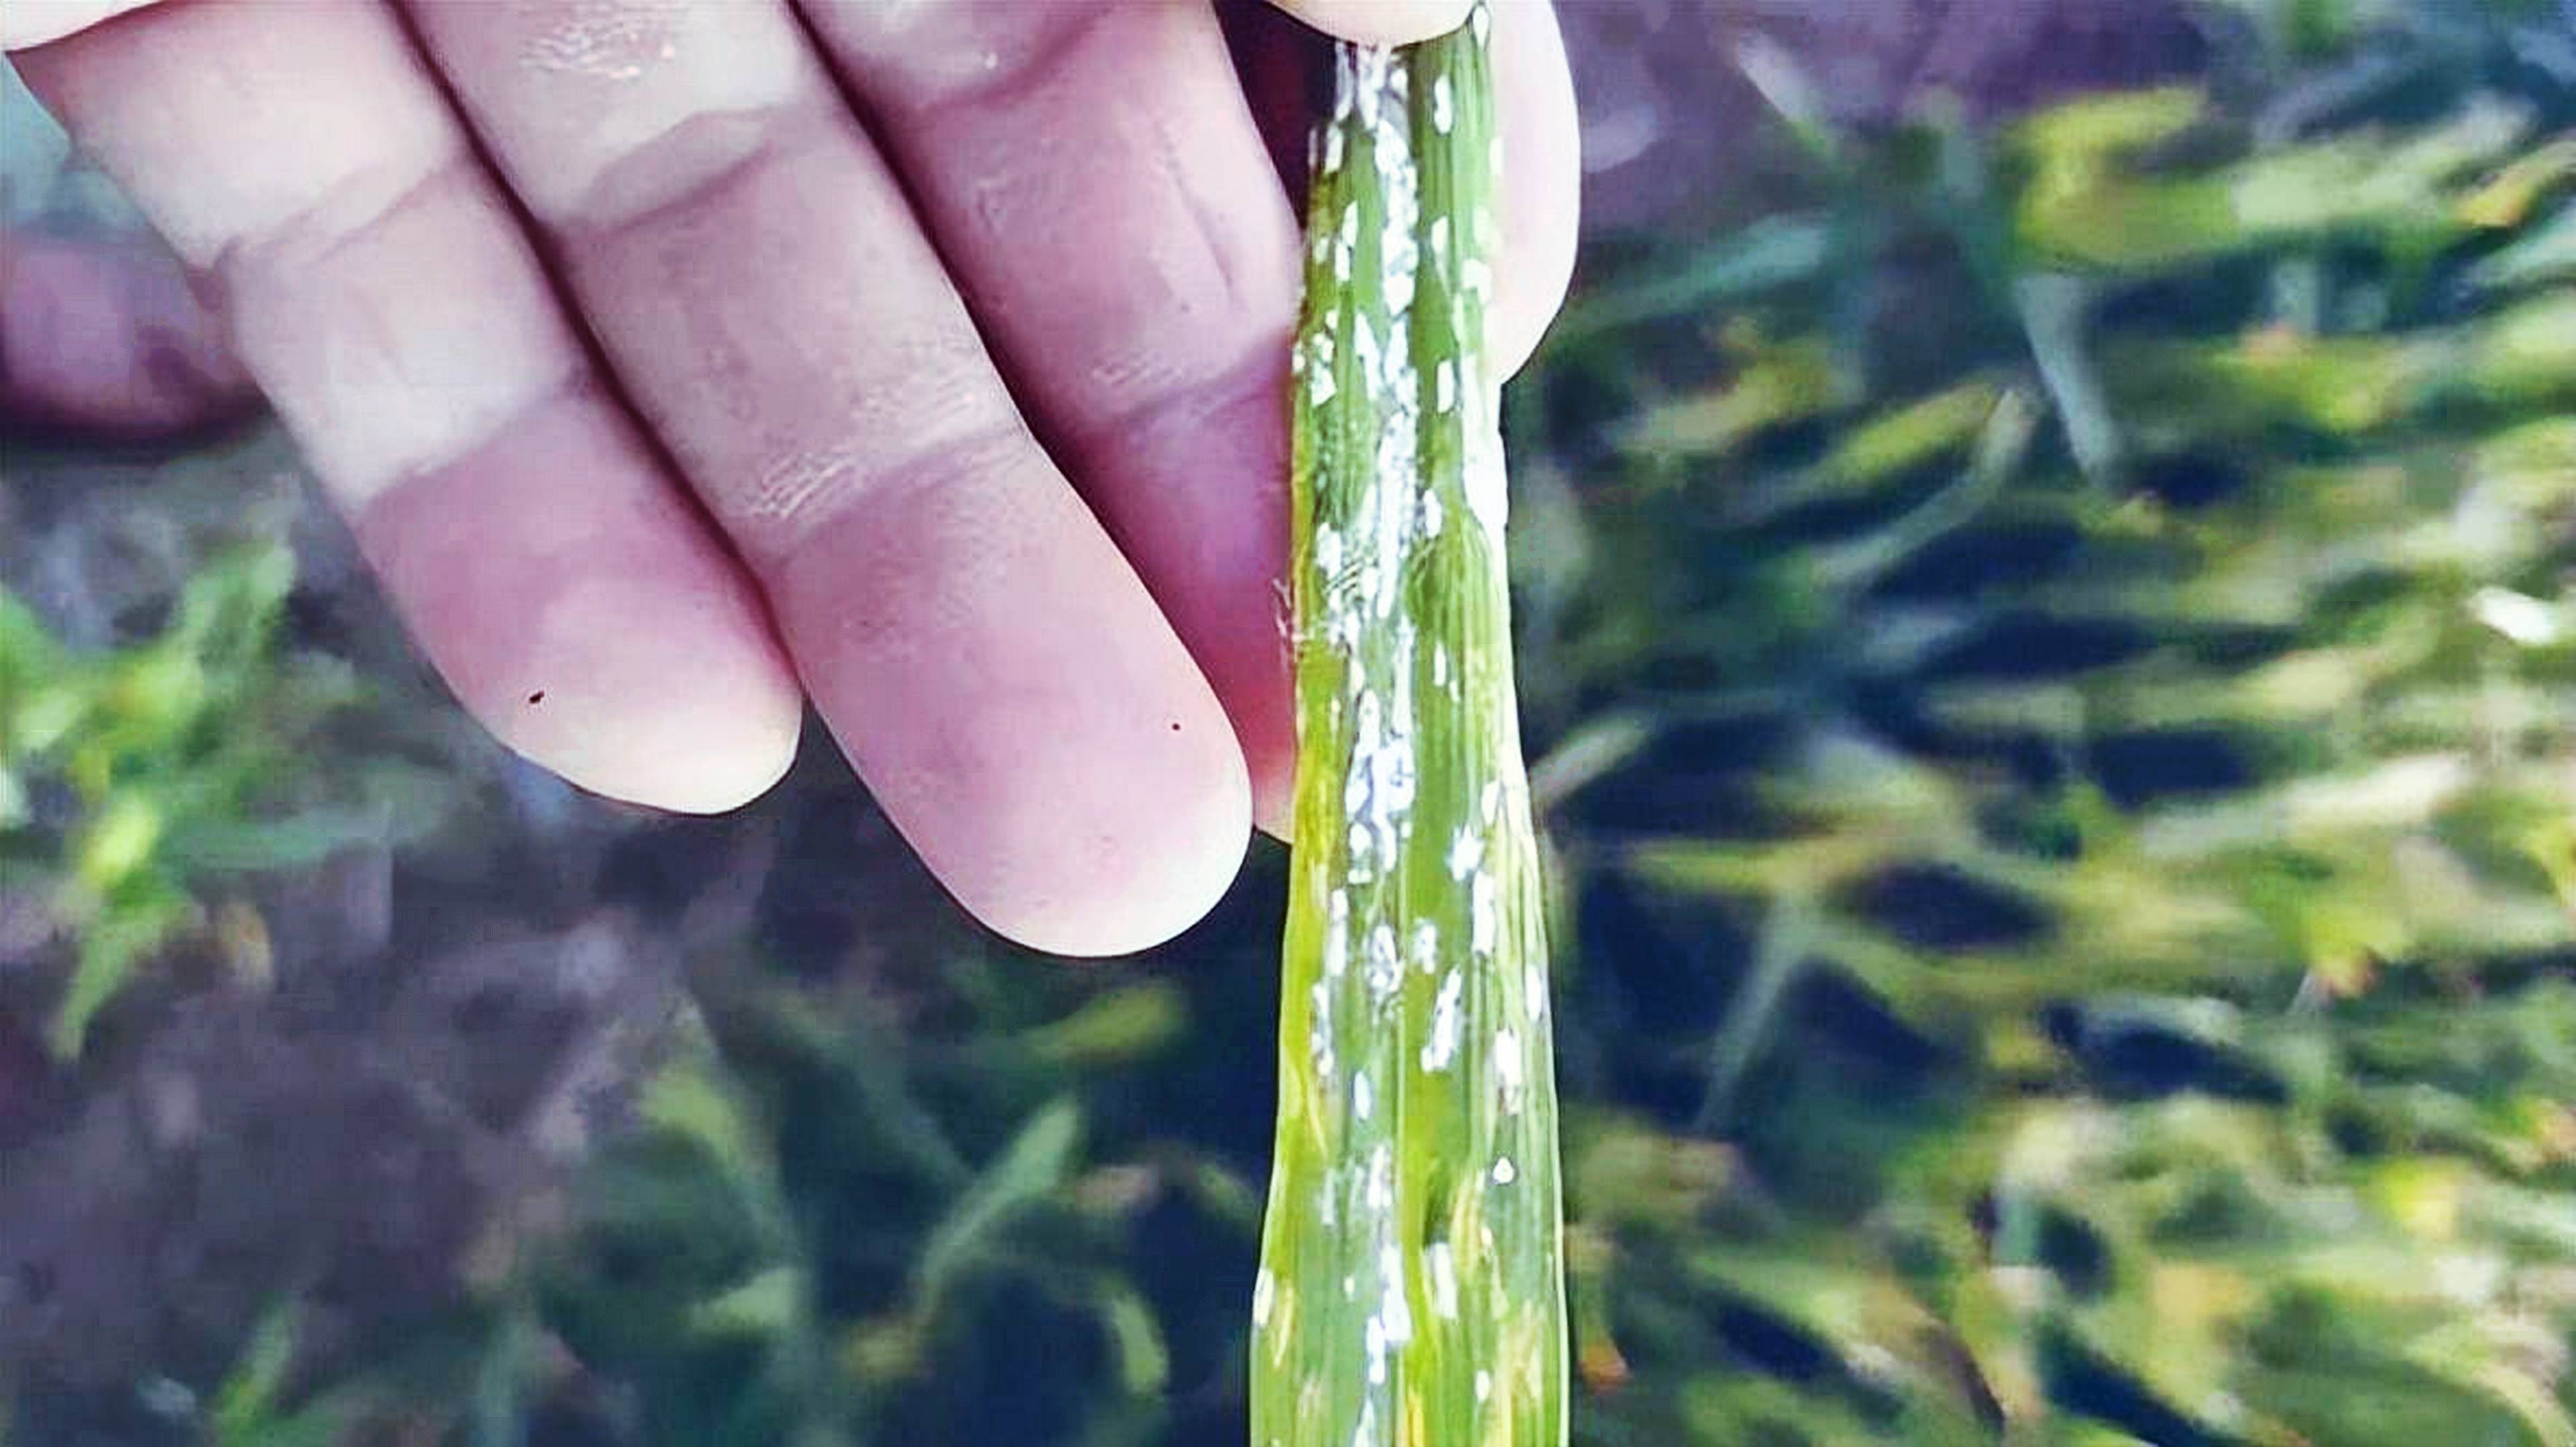Powdery Mildew: (1263, 83, 1591, 1359)
